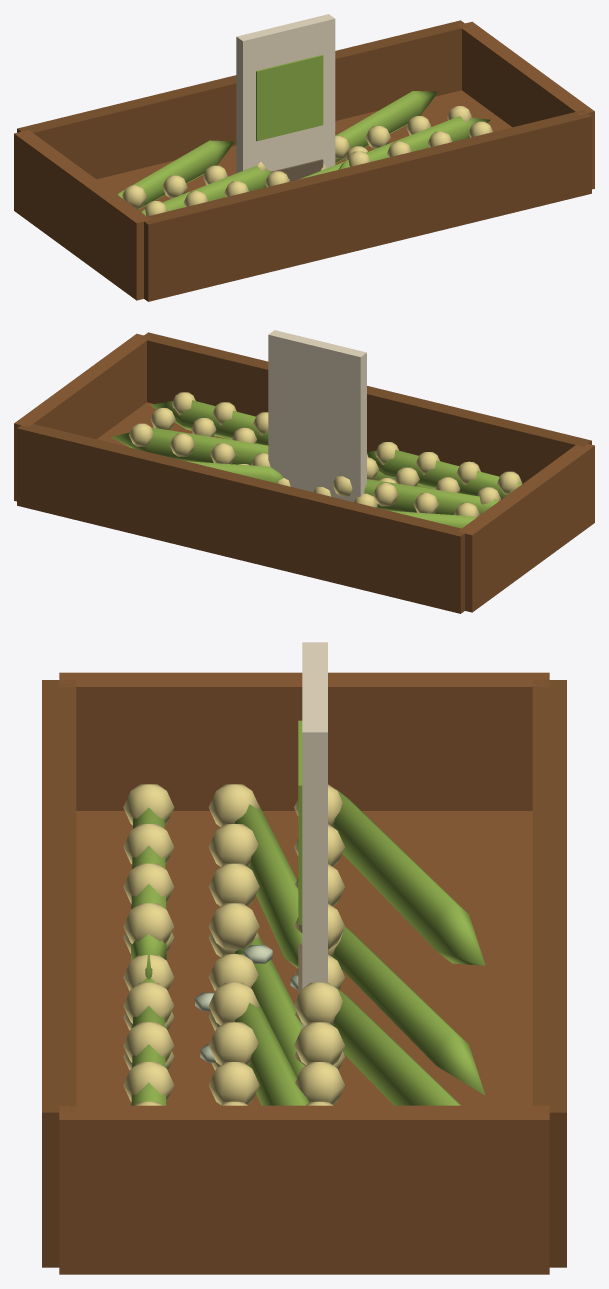
Rendered from Veg_Soybean.fbx.
3 renders of one model, top to bottom at view 1: azimuth 30°, elevation 25°; view 2: azimuth 150°, elevation 25°; view 3: azimuth 270°, elevation 25°, orthographic. The views are drawn at different scales.
Visible parts, largest first — view 1: Veg_Soybean__Stack, Veg_Soybean__Seed; view 2: Veg_Soybean__Stack, Veg_Soybean__Seed, Veg_Soybean; view 3: Veg_Soybean__Stack, Veg_Soybean, Veg_Soybean__Seed, Veg_Soybean__Rotten.
Boxes of the visible parts, box(x1,y1,x2,y2) form: Veg_Soybean__Stack: box(14, 20, 594, 301); Veg_Soybean__Seed: box(236, 14, 335, 181); Veg_Soybean__Stack: box(14, 332, 594, 613); Veg_Soybean__Seed: box(268, 330, 366, 501); Veg_Soybean: box(238, 454, 433, 507); Veg_Soybean__Stack: box(42, 672, 566, 1274); Veg_Soybean: box(123, 926, 485, 1095); Veg_Soybean__Seed: box(298, 642, 327, 1027); Veg_Soybean__Rotten: box(195, 945, 298, 1062).
Size of the model in its own units: 0.248 by 0.09 by 0.1229.
